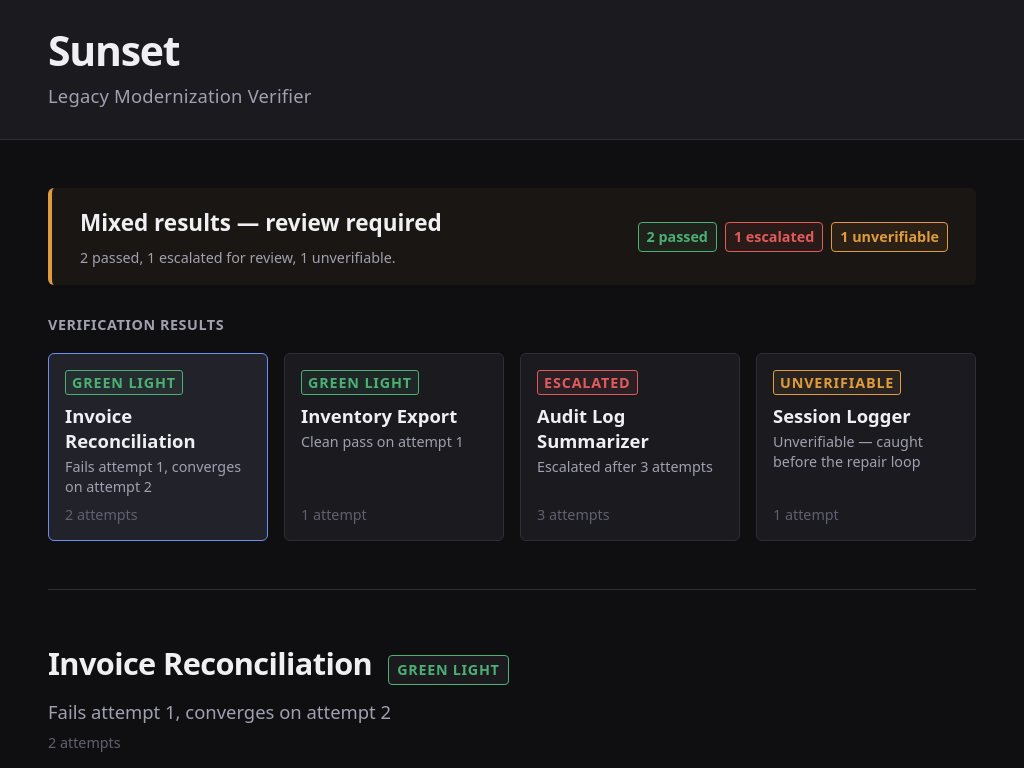
Test: App evidence detail — result selection (AC-4) › shows the Escalated verdict badge after selecting result 03
Click the button with test id "result-card-03" at [630, 447], box [520,353,740,541]
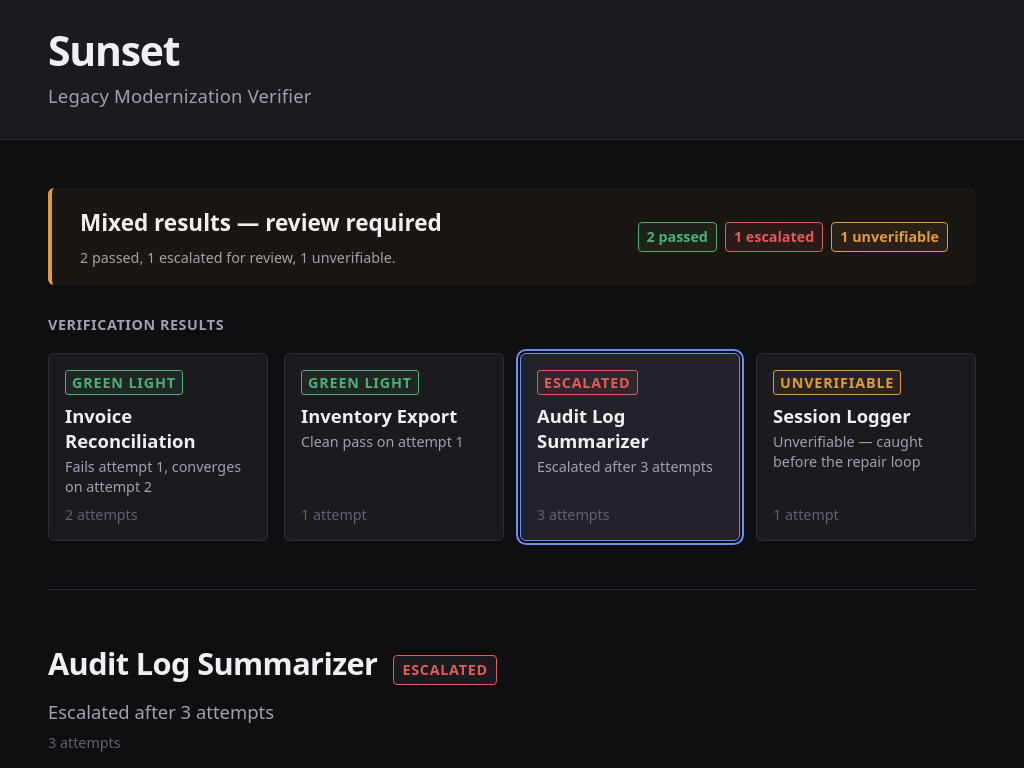
expect the 2nd text "Escalated" is shown: met, box [393,655,497,685]
